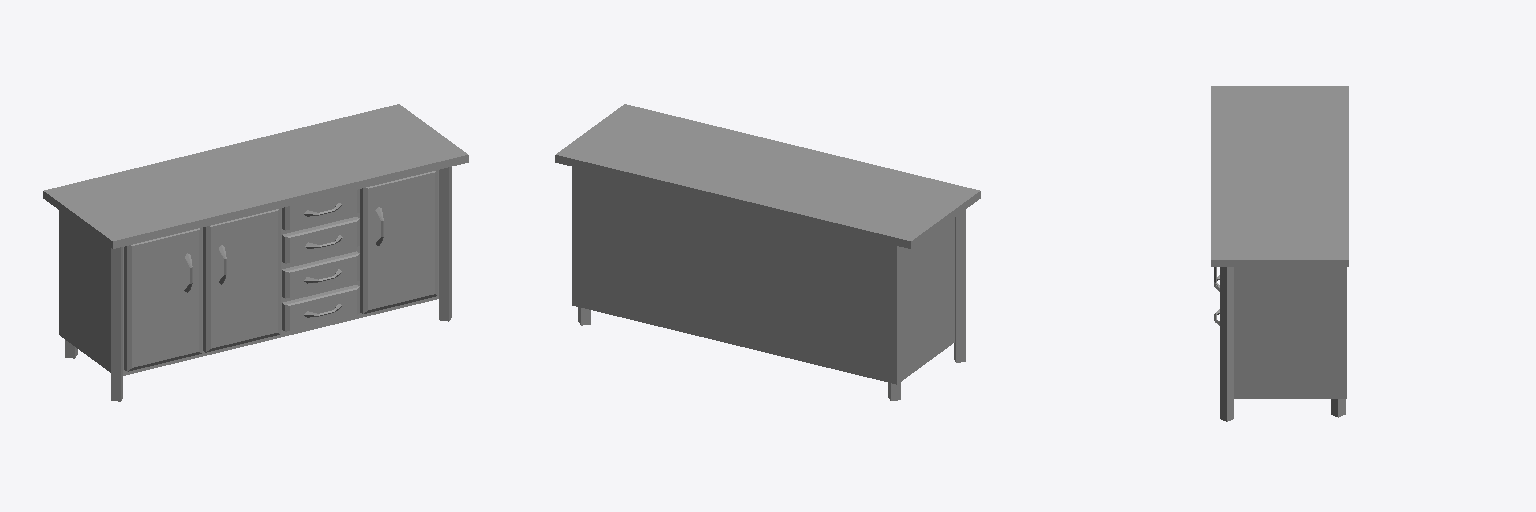
Rendered from dressoir.obj.
3 renders of one model, left to right at view 1: azimuth 30°, elevation 25°; view 2: azimuth 150°, elevation 25°; view 3: azimuth 270°, elevation 25°, orthographic.
Parts seen in each view (by area): view 1: Cube_2.004, Cube_3_1.003, Cube_3_2.001, Cube_3.004, Cube_1.004, Cube_3_4.001, Cube_3_6.001, Cube_3_5.001, Cylinder_1.003, Cylinder_1_2.003, Cube_3_3.001; view 2: Cube_1.004, Cube_2.004, Cylinder_1_2.003; view 3: Cube_2.004, Cube_1.004, Cylinder_1.003.
Boxes of the visible parts, <box> form: Cube_2.004: <box>43,104,468,248</box>; Cube_3_1.003: <box>203,208,280,352</box>; Cube_3_2.001: <box>360,170,437,313</box>; Cube_3.004: <box>124,228,201,371</box>; Cube_1.004: <box>59,170,438,375</box>; Cube_3_4.001: <box>282,217,359,263</box>; Cube_3_6.001: <box>282,285,359,331</box>; Cube_3_5.001: <box>282,251,359,298</box>; Cylinder_1.003: <box>439,167,451,321</box>; Cylinder_1_2.003: <box>111,247,122,401</box>; Cube_3_3.001: <box>282,189,359,230</box>; Cube_1.004: <box>572,167,954,384</box>; Cube_2.004: <box>555,104,980,248</box>; Cylinder_1_2.003: <box>954,210,965,362</box>; Cube_2.004: <box>1211,86,1348,266</box>; Cube_1.004: <box>1234,267,1346,398</box>; Cylinder_1.003: <box>1220,267,1233,421</box>.
Bounding box in the file's own units: 4.71 × 2.11 × 1.59.